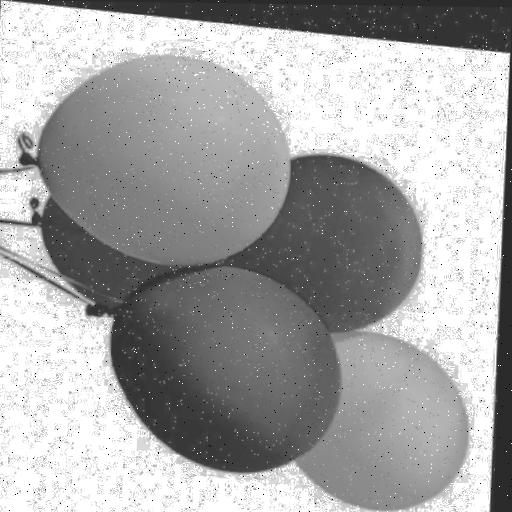balloon: (26, 36, 299, 275), (99, 247, 350, 486), (211, 138, 434, 350), (296, 316, 478, 512)
